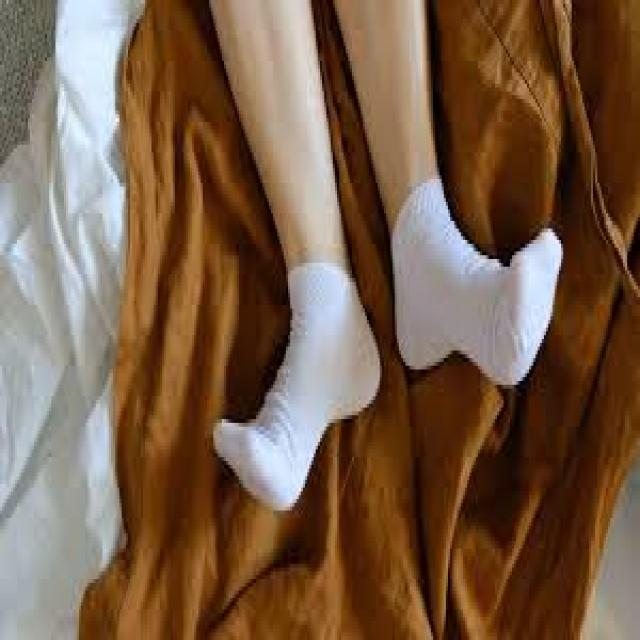piel: (205, 1, 347, 268), (328, 0, 446, 239)
